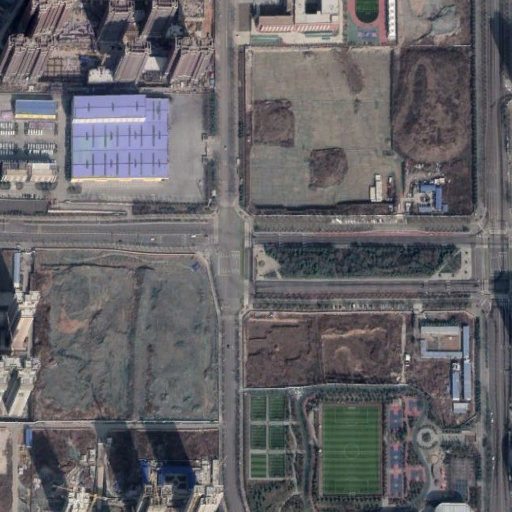cw: (33, 245, 221, 421), (253, 44, 394, 213)
